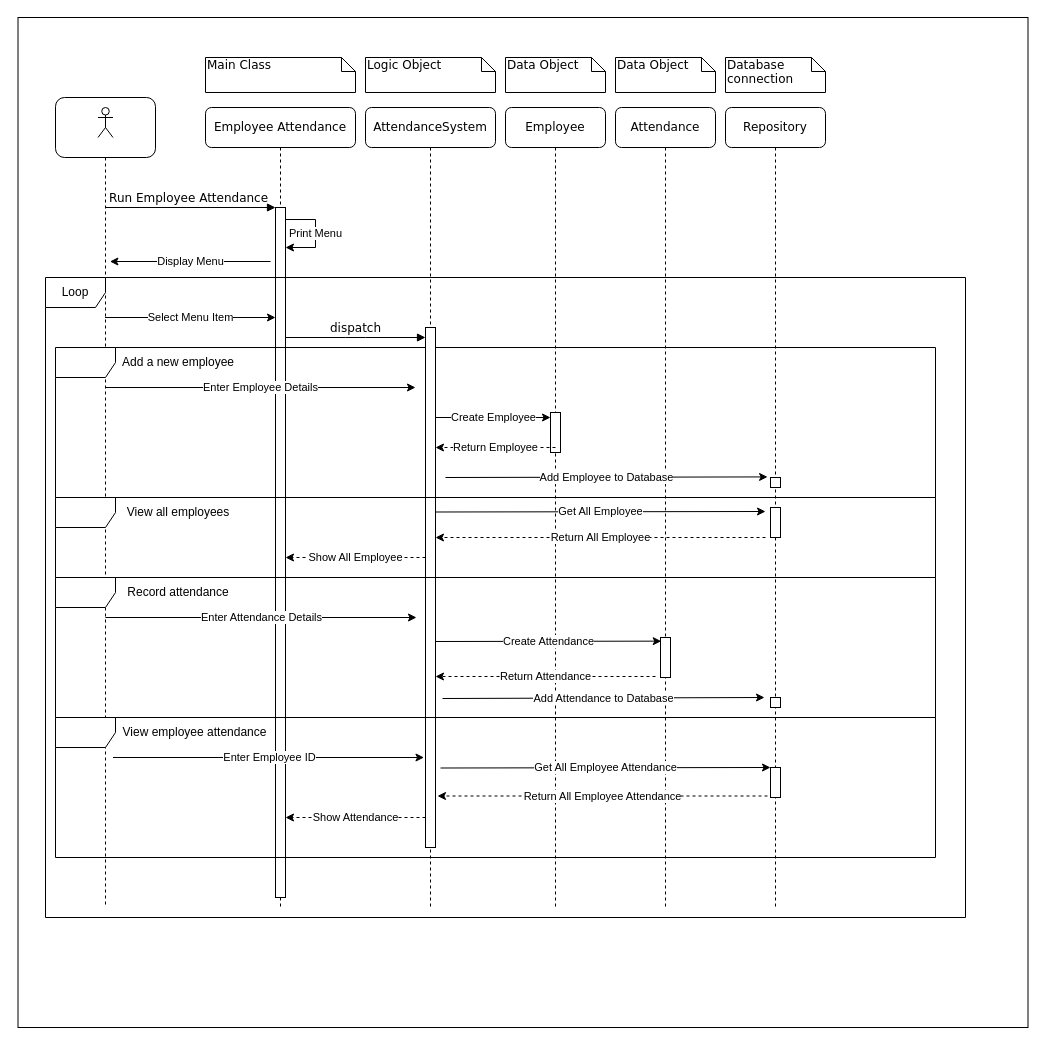
Some shapes in this 1045 by 1045 pixel diagram are drawn without their labels. The box of each missing label's shape, as (x1, y1, x2, y2) in pixels:
Item 1: (54, 346, 936, 498)
Item 2: (54, 496, 936, 578)
Item 3: (54, 576, 936, 718)
Item 4: (54, 716, 936, 858)
User: (97, 106, 113, 138)
